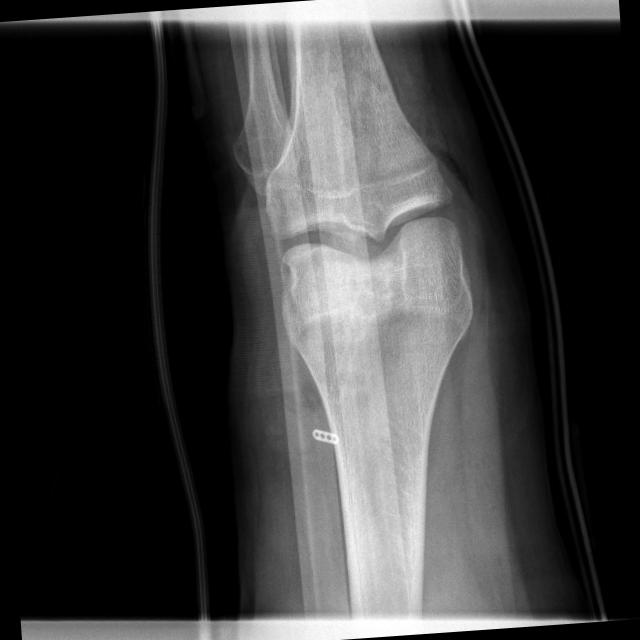Knee: (265, 143, 482, 357)
